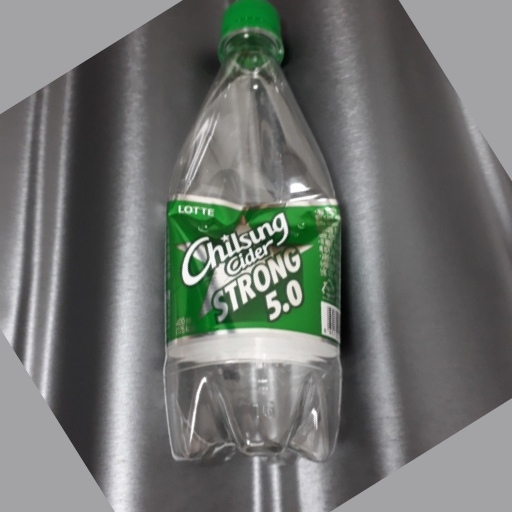Plastic_0: (162, 3, 343, 471)
